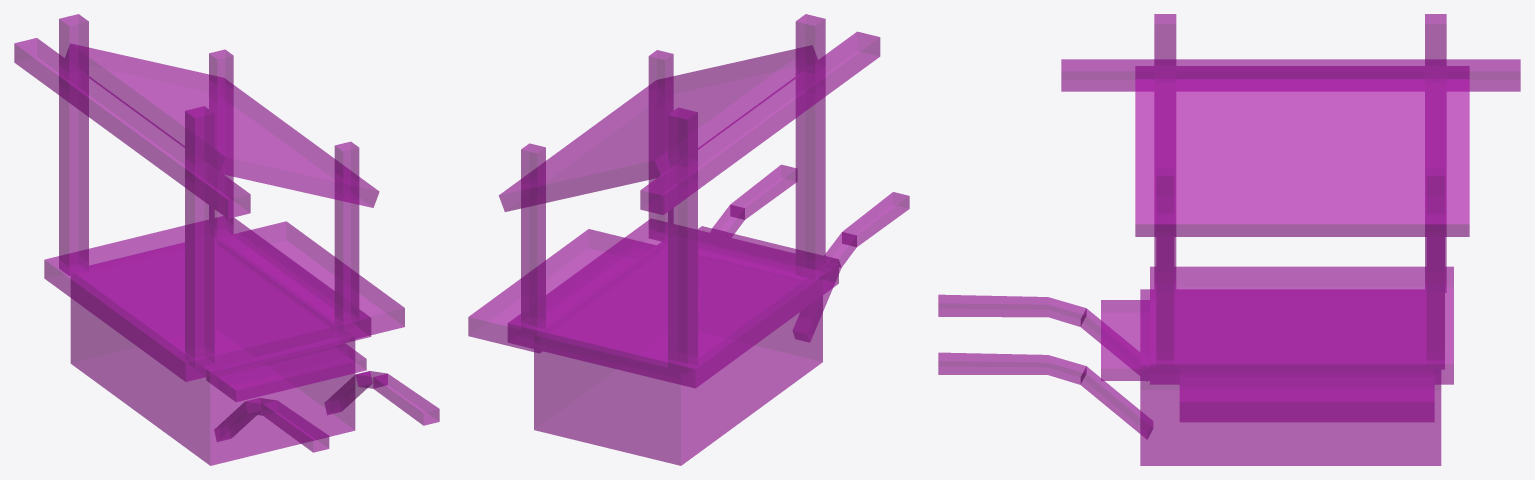
Rendered from SM_Veh_Cart_03_Collision.fbx.
The picture shows the model from 3 angles, left to right: view 1: azimuth 30°, elevation 25°; view 2: azimuth 150°, elevation 25°; view 3: azimuth 270°, elevation 25°; orthographic projection. The views are drawn at different scales.
Parts seen in each view (by area): view 1: SM_Veh_Cart_03_Collision; view 2: SM_Veh_Cart_03_Collision; view 3: SM_Veh_Cart_03_Collision.
Boxes of the visible parts, x1,y1,x2,y2 form: SM_Veh_Cart_03_Collision: (14,14,439,465); SM_Veh_Cart_03_Collision: (468,14,909,465); SM_Veh_Cart_03_Collision: (938,14,1520,465).
Size of the model in its own units: 158 by 224 by 319.
